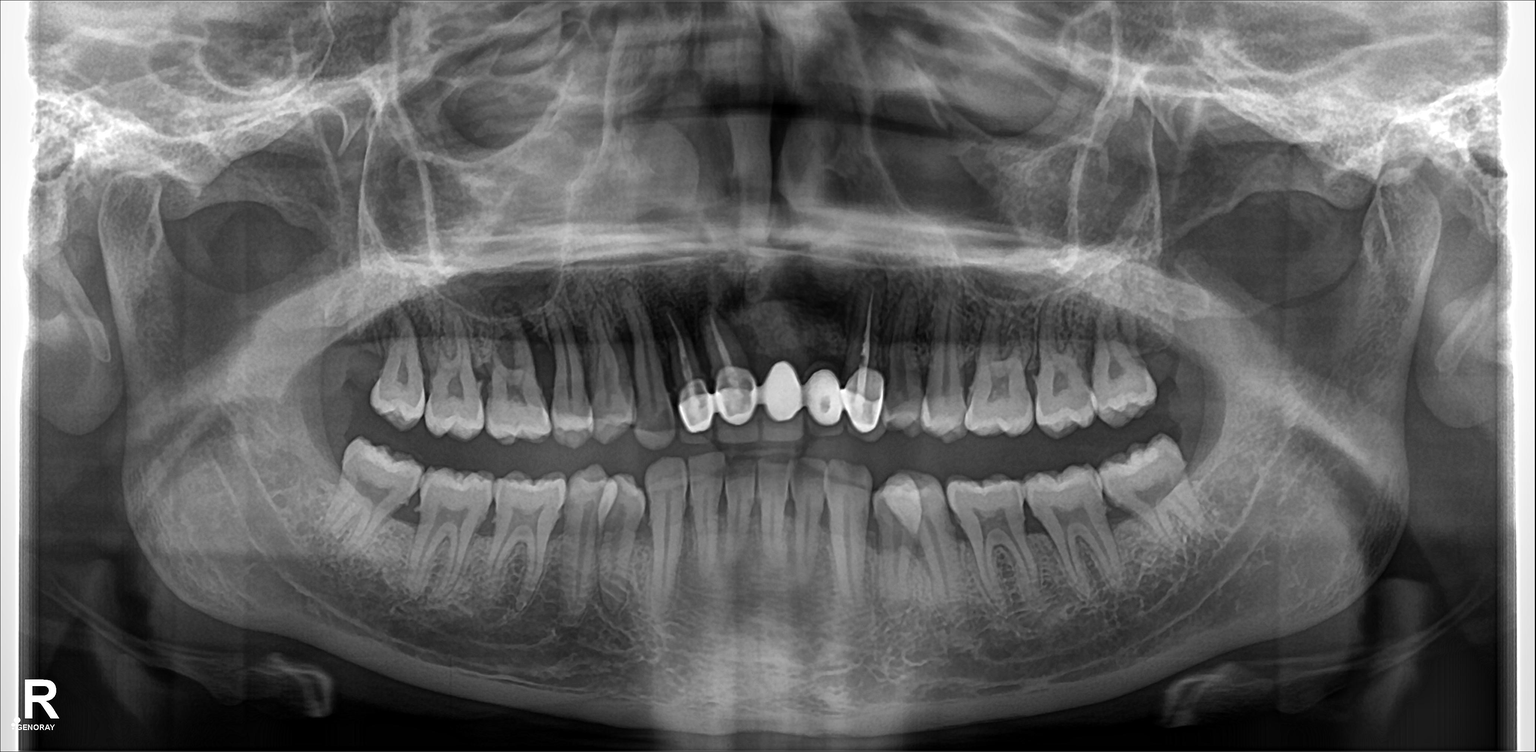Endodontically Treated Tooth: (663, 324, 721, 442), (702, 320, 760, 429), (840, 315, 889, 438)
Missing Tooth: (320, 313, 380, 420), (1147, 318, 1204, 422)
